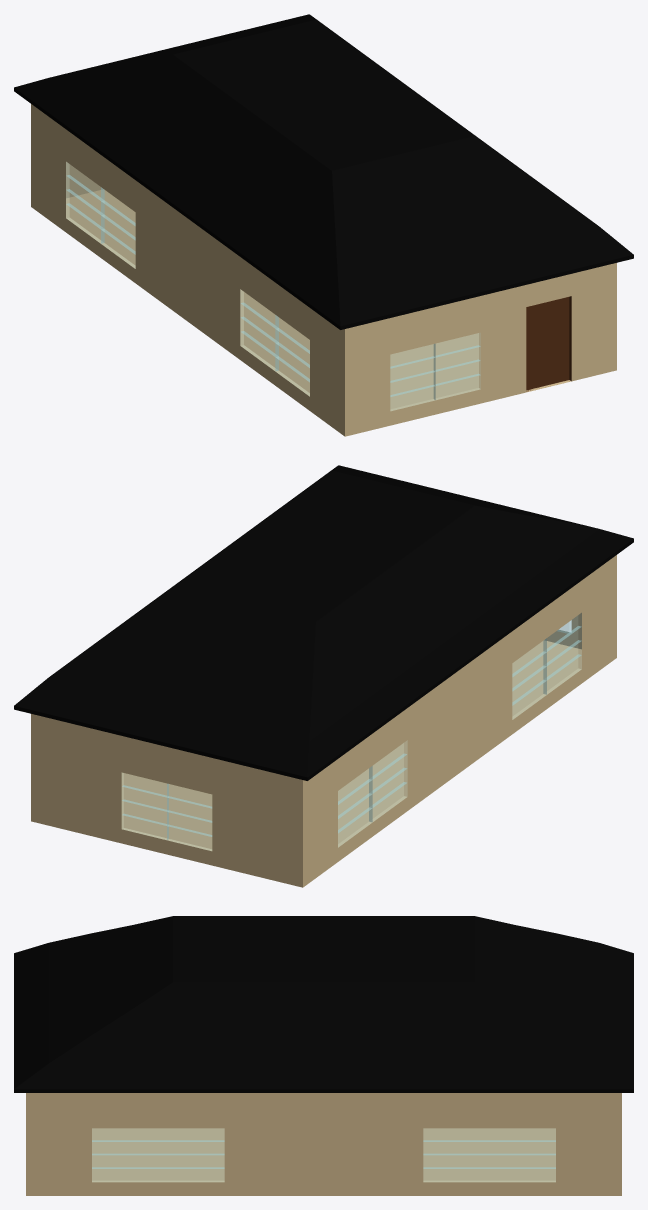
Rendered from HouseMagic.FBX.
3 views of the same model, one above another, from view 1: azimuth 30°, elevation 25°; view 2: azimuth 150°, elevation 25°; view 3: azimuth 270°, elevation 25° (orthographic). The views are drawn at different scales.
Parts seen in each view (by area): view 1: Box001; view 2: Box001; view 3: Box001.
Part boxes in pixels (x1,y1,x2,y2): Box001: (14,14,633,436); Box001: (14,465,633,887); Box001: (14,916,633,1195).
Bounding box in the file's own units: 16.2 × 10.2 × 31.2.
